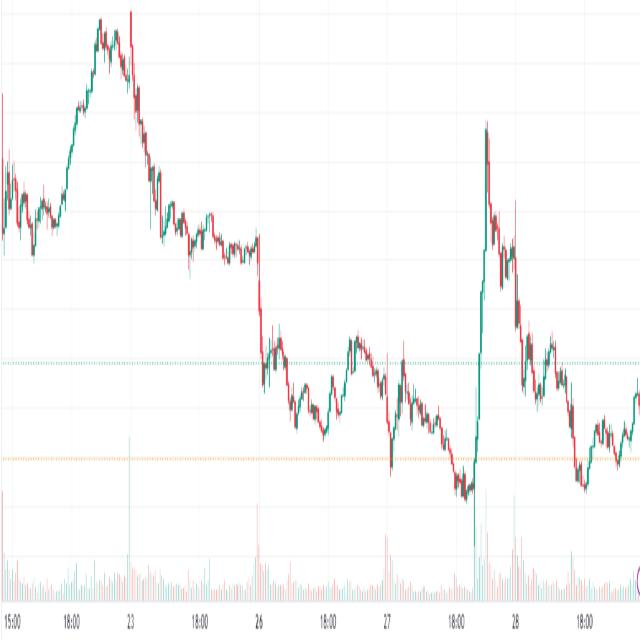Descending-Triangle: (510, 230, 591, 411)
Double-Bottom: (570, 440, 594, 498), (532, 363, 548, 416)
Falling-Wedge: (238, 285, 331, 444)
Head-Shoulders: (472, 112, 502, 394), (90, 14, 129, 99)
Triangle: (0, 139, 76, 296)
